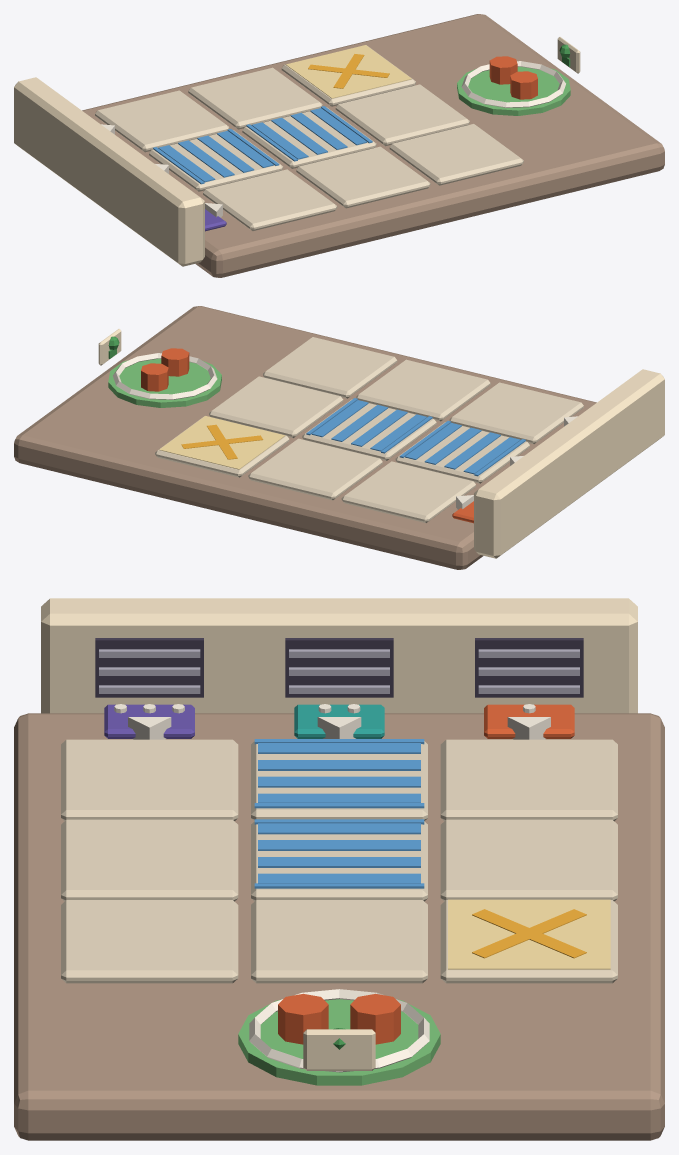
The model's file is MOONSHIFT_AIR_Placement_Board_3x3.glb.
The picture shows the model from 3 angles, top to bottom: view 1: azimuth 30°, elevation 25°; view 2: azimuth 150°, elevation 25°; view 3: azimuth 270°, elevation 25°; orthographic projection. The views are drawn at different scales.
Visible parts, largest first — view 1: Board_Base, Board_InletWall, Board_Tile_22, Board_Tile_12, Board_Tile_02, Board_Tile_21, Board_Tile_10, Board_Tile_00, ServiceZone_Ring, CrewZone_Pad, Board_Tile_11, Board_Tile_01 (+14 smaller); view 2: Board_Base, Board_InletWall, Board_Tile_10, Board_Tile_00, Board_Tile_22, Board_Tile_21, Board_Tile_12, Board_Tile_02, ServiceZone_Ring, CrewZone_Pad, Board_Tile_11, Board_Tile_01 (+14 smaller); view 3: Board_Base, Board_InletWall, Board_Tile_22, Board_Tile_21, Board_Tile_00, Board_Tile_02, Board_Tile_10, Board_Tile_12, ServiceZone_Ring, CrewZone_Pad, Board_Tile_01, Board_Tile_11 (+36 smaller).
Boxes of the visible parts, bbox=[...] form: Board_Base: bbox=[82, 14, 664, 277]; Board_InletWall: bbox=[14, 77, 204, 266]; Board_Tile_22: bbox=[389, 124, 523, 185]; Board_Tile_12: bbox=[296, 146, 430, 208]; Board_Tile_02: bbox=[203, 169, 337, 230]; Board_Tile_21: bbox=[335, 84, 469, 146]; Board_Tile_10: bbox=[188, 67, 322, 129]; Board_Tile_00: bbox=[95, 90, 229, 152]; ServiceZone_Ring: bbox=[285, 45, 411, 98]; CrewZone_Pad: bbox=[457, 66, 570, 115]; Board_Tile_11: bbox=[242, 107, 376, 168]; Board_Tile_01: bbox=[149, 130, 283, 191]; Board_Base: bbox=[14, 306, 596, 569]; Board_InletWall: bbox=[474, 369, 664, 558]; Board_Tile_10: bbox=[248, 438, 382, 500]; Board_Tile_00: bbox=[341, 461, 475, 522]; Board_Tile_22: bbox=[263, 337, 397, 398]; Board_Tile_21: bbox=[209, 376, 343, 438]; Board_Tile_12: bbox=[356, 359, 490, 421]; Board_Tile_02: bbox=[449, 382, 583, 444]; ServiceZone_Ring: bbox=[159, 416, 285, 469]; CrewZone_Pad: bbox=[108, 358, 221, 407]; Board_Tile_11: bbox=[302, 399, 436, 460]; Board_Tile_01: bbox=[395, 422, 529, 483]; Board_Base: bbox=[14, 713, 664, 1140]; Board_InletWall: bbox=[41, 598, 637, 713]; Board_Tile_22: bbox=[61, 900, 238, 983]; Board_Tile_21: bbox=[251, 900, 427, 983]; Board_Tile_00: bbox=[440, 739, 617, 821]; Board_Tile_02: bbox=[61, 739, 238, 821]; Board_Tile_10: bbox=[440, 819, 617, 901]; Board_Tile_12: bbox=[61, 819, 238, 901]; ServiceZone_Ring: bbox=[448, 899, 610, 969]; CrewZone_Pad: bbox=[238, 999, 440, 1085]; Board_Tile_01: bbox=[251, 741, 427, 820]; Board_Tile_11: bbox=[251, 821, 427, 901].
Size of the model in its own units: 5.4 by 0.85 by 3.6.
